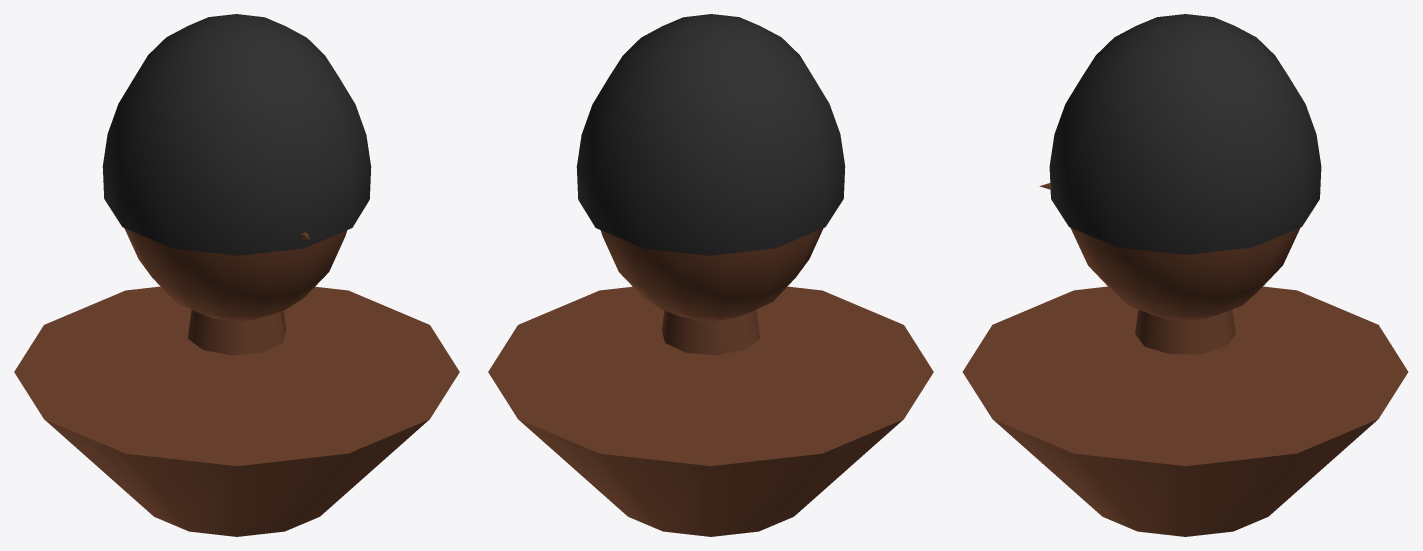
File: raw_003.glb
3 views of the same model, side by side, from view 1: azimuth 30°, elevation 25°; view 2: azimuth 150°, elevation 25°; view 3: azimuth 270°, elevation 25° (orthographic).
Bounding box in the file's own units: 1.86 × 2.17 × 1.86.
